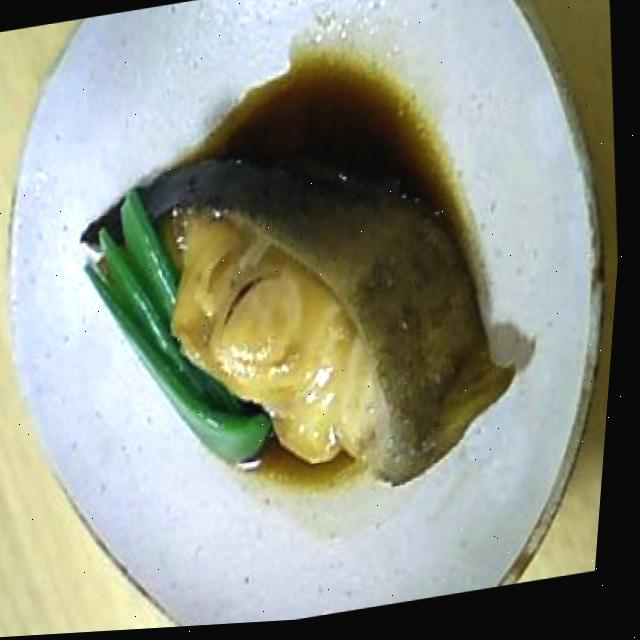熟制海鲜: (47, 104, 548, 543)
